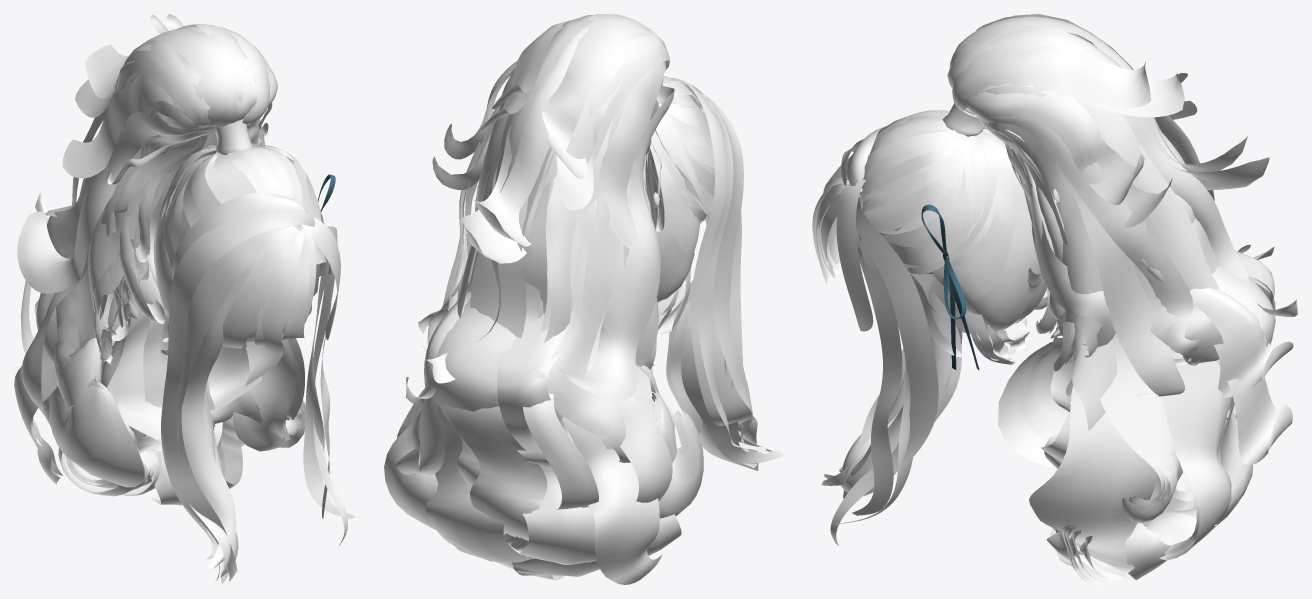
Rendered from bdor_hair_illya.glb.
3 views of the same model, side by side, from view 1: azimuth 30°, elevation 25°; view 2: azimuth 150°, elevation 25°; view 3: azimuth 270°, elevation 25° (orthographic). The views are drawn at different scales.
Parts seen in each view (by area): view 1: IY_tailD, IY_L, IY_tailA, IY_tailB, IY_L_inv, IY_tailC, IY_base, Scr; view 2: IY_tailD, IY_tailC, IY_tailB, IY_L, IY_base, IY_L_inv, IY_tailA, IY_mini; view 3: IY_tailD, IY_tailB, IY_base, IY_L, IY_tailC, IY_L_inv, IY_tailA, IY_mini, EX_Asuna_ribbon, Scr.
Boxes of the visible parts, x1,y1,x2,y2 form: IY_tailD: (17, 14, 277, 365); IY_L: (161, 192, 355, 584); IY_tailA: (58, 111, 283, 505); IY_tailB: (14, 110, 305, 487); IY_L_inv: (161, 193, 354, 583); IY_tailC: (20, 50, 257, 414); IY_base: (153, 143, 324, 316); Scr: (215, 118, 253, 154); IY_tailD: (405, 14, 674, 405); IY_tailC: (395, 78, 676, 540); IY_tailB: (384, 181, 703, 584); IY_L: (666, 77, 783, 470); IY_base: (650, 76, 714, 302); IY_L_inv: (666, 77, 781, 470); IY_tailA: (483, 389, 681, 580); IY_mini: (657, 265, 691, 336); IY_tailD: (947, 14, 1297, 430); IY_tailB: (998, 133, 1252, 584); IY_base: (859, 110, 1046, 331); IY_L: (812, 126, 962, 545); IY_tailC: (949, 31, 1292, 522); IY_L_inv: (812, 127, 961, 544); IY_tailA: (1041, 332, 1216, 580); IY_mini: (964, 310, 1029, 364); EX_Asuna_ribbon: (921, 204, 979, 370); Scr: (942, 103, 984, 136).
Size of the model in its own units: 0.2939 by 0.56 by 0.4585.
Materials: 18 (1 with a texture image).
